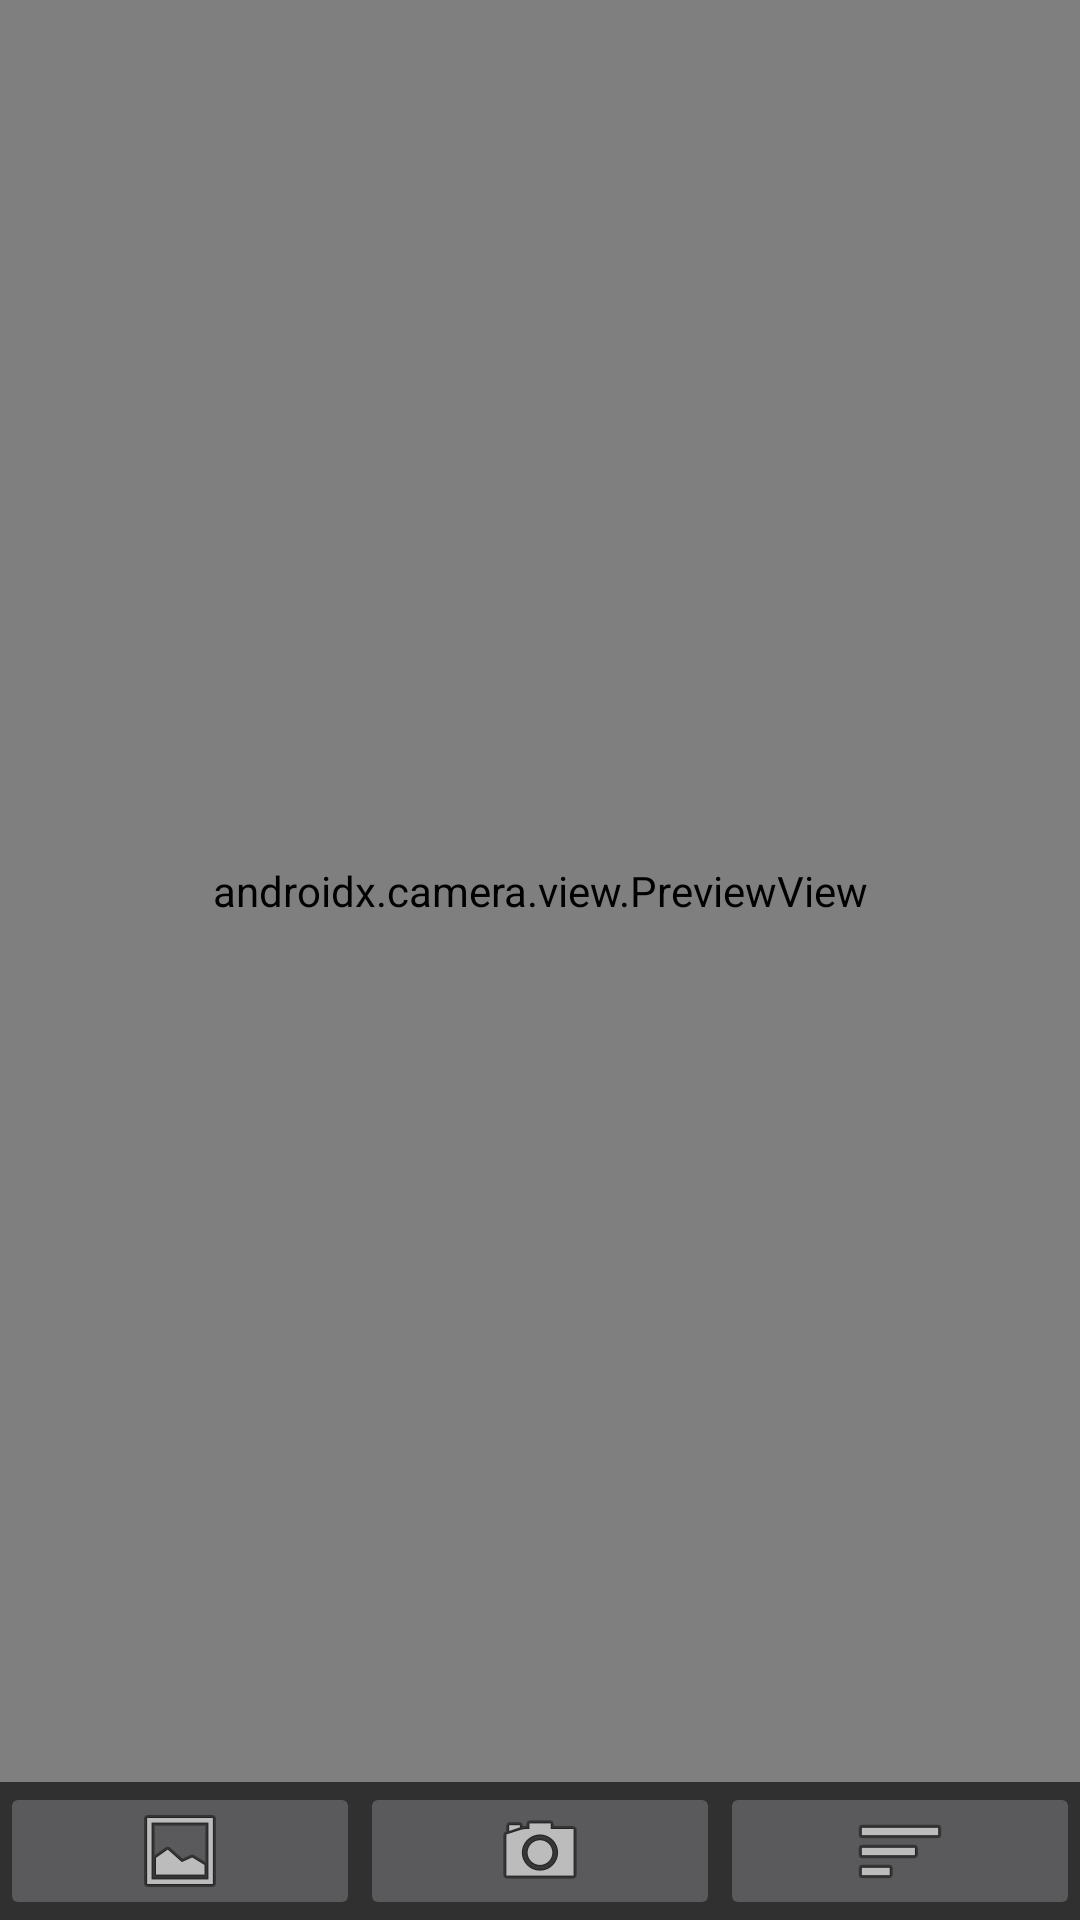

Named icons in this screenshot (1080*1920) and their centers, point (x, y):
gallery: point (180, 1851)
sort by size: point (900, 1851)
